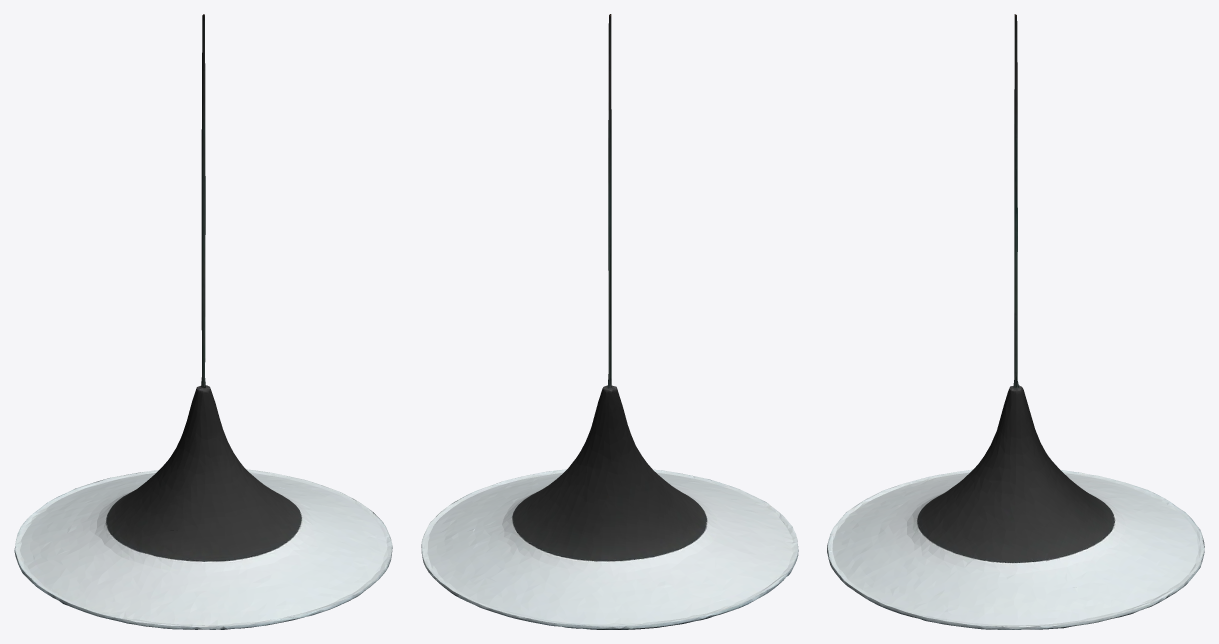
Rendered from ast_108a3cf096de.glb.
The picture shows the model from 3 angles, left to right: view 1: azimuth 30°, elevation 25°; view 2: azimuth 150°, elevation 25°; view 3: azimuth 270°, elevation 25°; orthographic projection.
Visible parts, largest first — view 1: geometry_0; view 2: geometry_0; view 3: geometry_0.
Part boxes in pixels (<box>): geometry_0: <box>14,14,392,629</box>; geometry_0: <box>421,14,798,629</box>; geometry_0: <box>827,14,1204,629</box>.
Bounding box in the file's own units: 0.6375 × 1 × 0.6381.
1 material, 1 textured.
